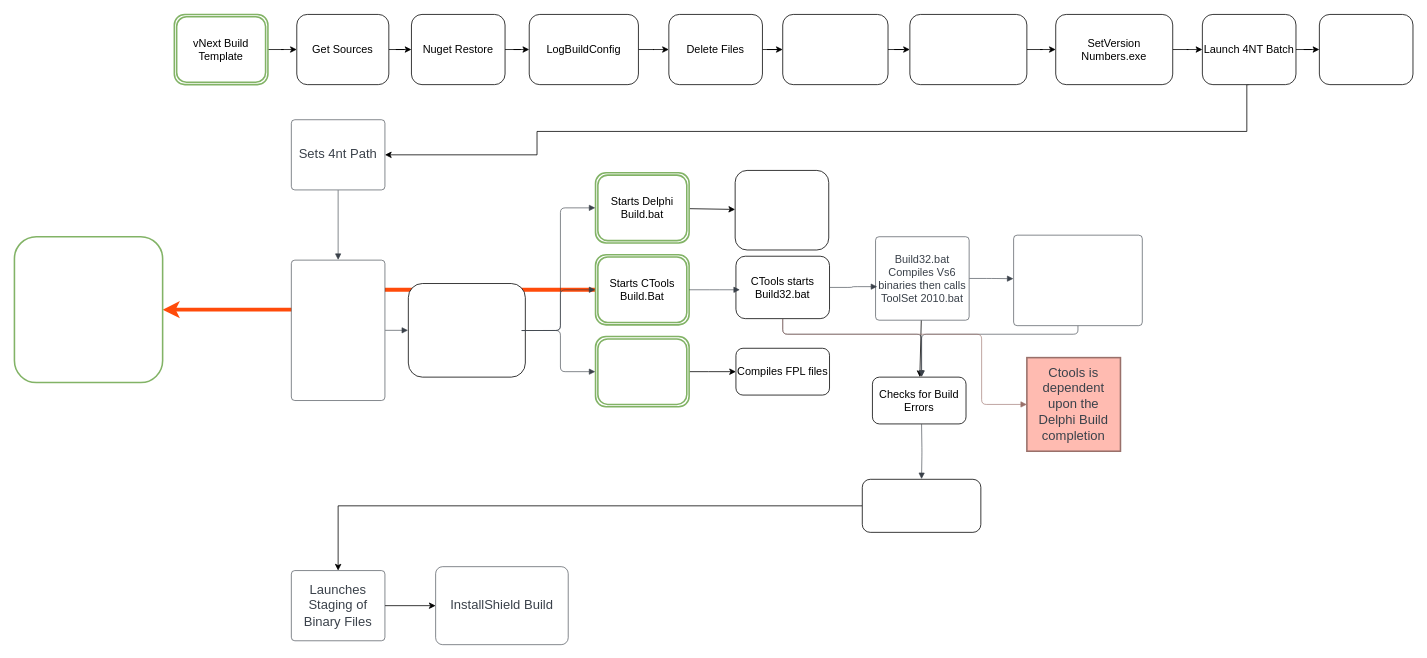
This 1427x658 diagram has some shape labels left out. Here are the shapes that lost their labels. From the top down, the box of each, then its label:
(782, 14, 888, 85): Increment Build Number
(909, 14, 1027, 85): ProSuiteBuild Configurator.exe
(1319, 14, 1413, 85): WhiteSource Upload
(734, 170, 829, 250): Builds Delphi and places binaries in Toolset/Bin folder
(1013, 234, 1142, 326): ToolSet 2010.bat compiles all current Toolset 2010 projects 140+
(291, 259, 385, 400): Starts Suite Build Manager.btm S.B.M.
(408, 283, 525, 377): S.B.M starts Build_Vars.bat
(594, 335, 690, 407): S.B.M Starts FPL Build.bat
(862, 479, 981, 532): Copies Binaries to Toolset_2010\Bin
